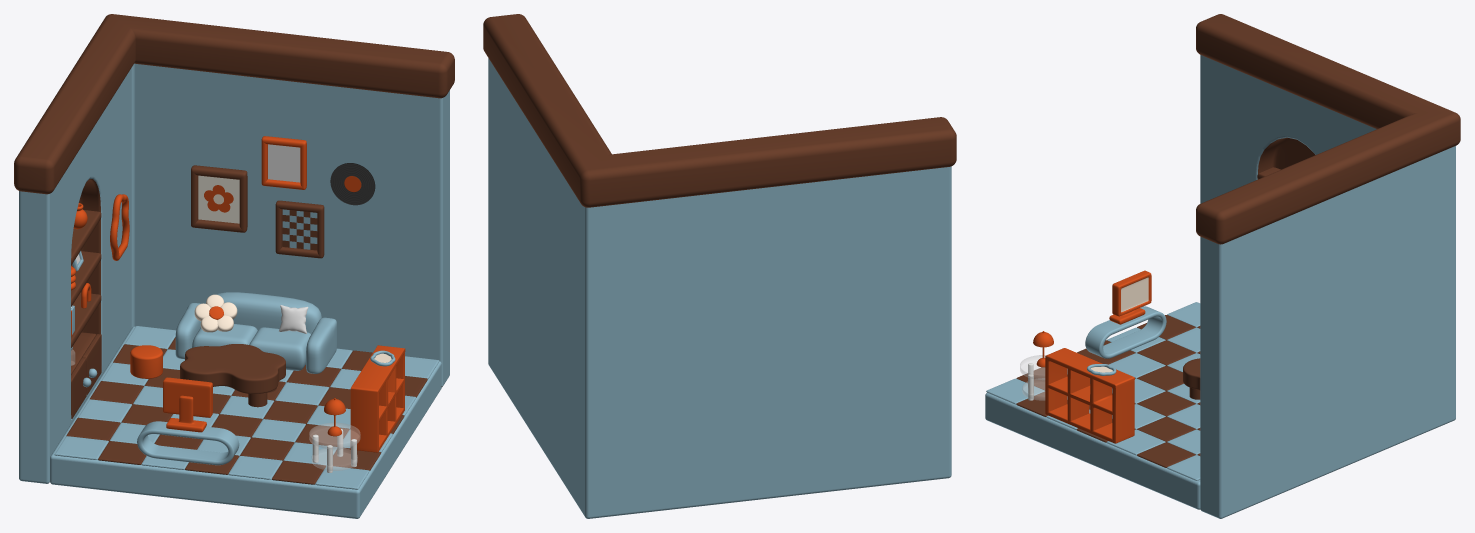
File: living_compressed.glb
3 renders of one model, left to right at view 1: azimuth 30°, elevation 25°; view 2: azimuth 150°, elevation 25°; view 3: azimuth 270°, elevation 25°, orthographic. The views are drawn at different scales.
Parts seen in each view (by area): view 1: Cube.019, Cube.029, Cube.006, Cube.013, Cube.009, Circle, Cube, Cylinder.008, Cube.004, Cube.003, Cube.012, Cube.022 (+16 smaller); view 2: Cube.019, Cube.006; view 3: Cube.019, Cube.006, Cube.029, Cube.009, Cube.013, Cylinder.008, Cube.007.
Boxes of the visible parts, x1=… form: Cube.019: x1=19, y1=63, x2=449, y2=483; Cube.029: x1=54, y1=326, x2=439, y2=489; Cube.006: x1=14, y1=14, x2=454, y2=194; Cube.013: x1=50, y1=326, x2=441, y2=518; Cube.009: x1=350, y1=345, x2=405, y2=452; Circle: x1=180, y1=344, x2=285, y2=393; Cube: x1=192, y1=324, x2=311, y2=370; Cylinder.008: x1=137, y1=421, x2=239, y2=465; Cube.004: x1=217, y1=292, x2=321, y2=333; Cube.003: x1=175, y1=303, x2=336, y2=373; Cube.012: x1=71, y1=210, x2=101, y2=348; Cube.022: x1=191, y1=165, x2=247, y2=232; Cube.019: x1=488, y1=58, x2=951, y2=518; Cube.006: x1=483, y1=14, x2=956, y2=207; Cube.019: x1=1200, y1=55, x2=1455, y2=518; Cube.006: x1=1196, y1=14, x2=1460, y2=244; Cube.029: x1=986, y1=302, x2=1200, y2=480; Cube.009: x1=1045, y1=348, x2=1134, y2=443; Cube.013: x1=985, y1=392, x2=1200, y2=509; Cylinder.008: x1=1085, y1=306, x2=1166, y2=358; Cube.007: x1=1112, y1=270, x2=1151, y2=316.
Bounding box in the file's own units: 3.15 × 2.23 × 3.12.
